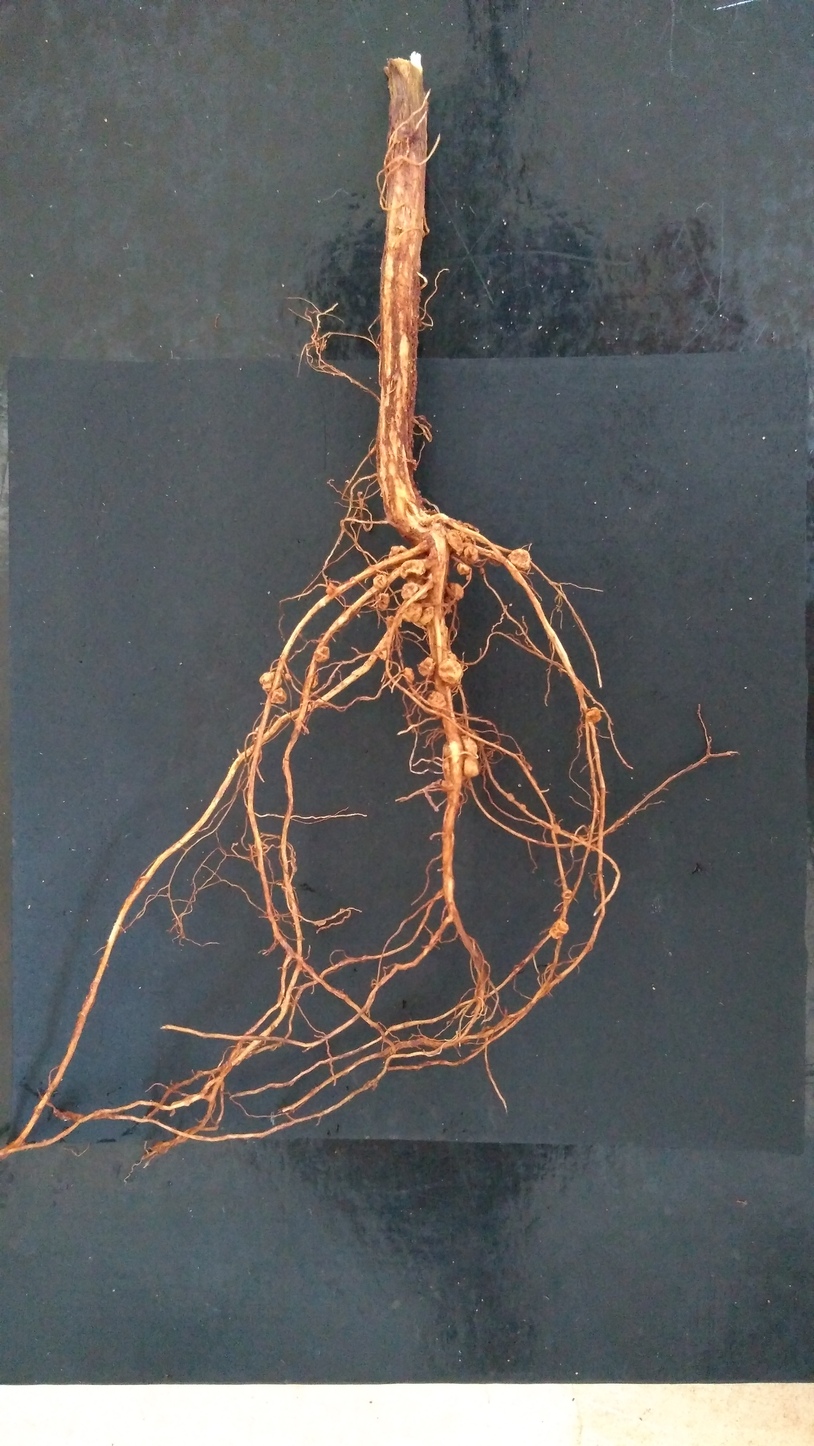nodule: (442, 735, 481, 782), (445, 528, 477, 555), (389, 545, 421, 569), (437, 657, 463, 686), (506, 548, 531, 572), (400, 599, 422, 623), (400, 559, 427, 578), (258, 672, 282, 692), (400, 582, 428, 599), (427, 690, 447, 713), (456, 519, 480, 537), (459, 544, 479, 565), (549, 920, 570, 939), (417, 656, 436, 676), (418, 605, 435, 627), (447, 581, 465, 601), (443, 592, 458, 614), (584, 706, 602, 724), (270, 686, 287, 704), (456, 562, 472, 581), (488, 546, 502, 567), (313, 646, 330, 662), (375, 593, 390, 611), (431, 522, 449, 536), (377, 644, 392, 660), (403, 666, 416, 683), (386, 614, 401, 628), (325, 582, 340, 596), (306, 672, 318, 689), (373, 574, 387, 588), (445, 648, 458, 662), (561, 888, 574, 899), (552, 824, 561, 834), (518, 802, 527, 811), (507, 792, 515, 802), (590, 842, 598, 852), (284, 672, 292, 681)
